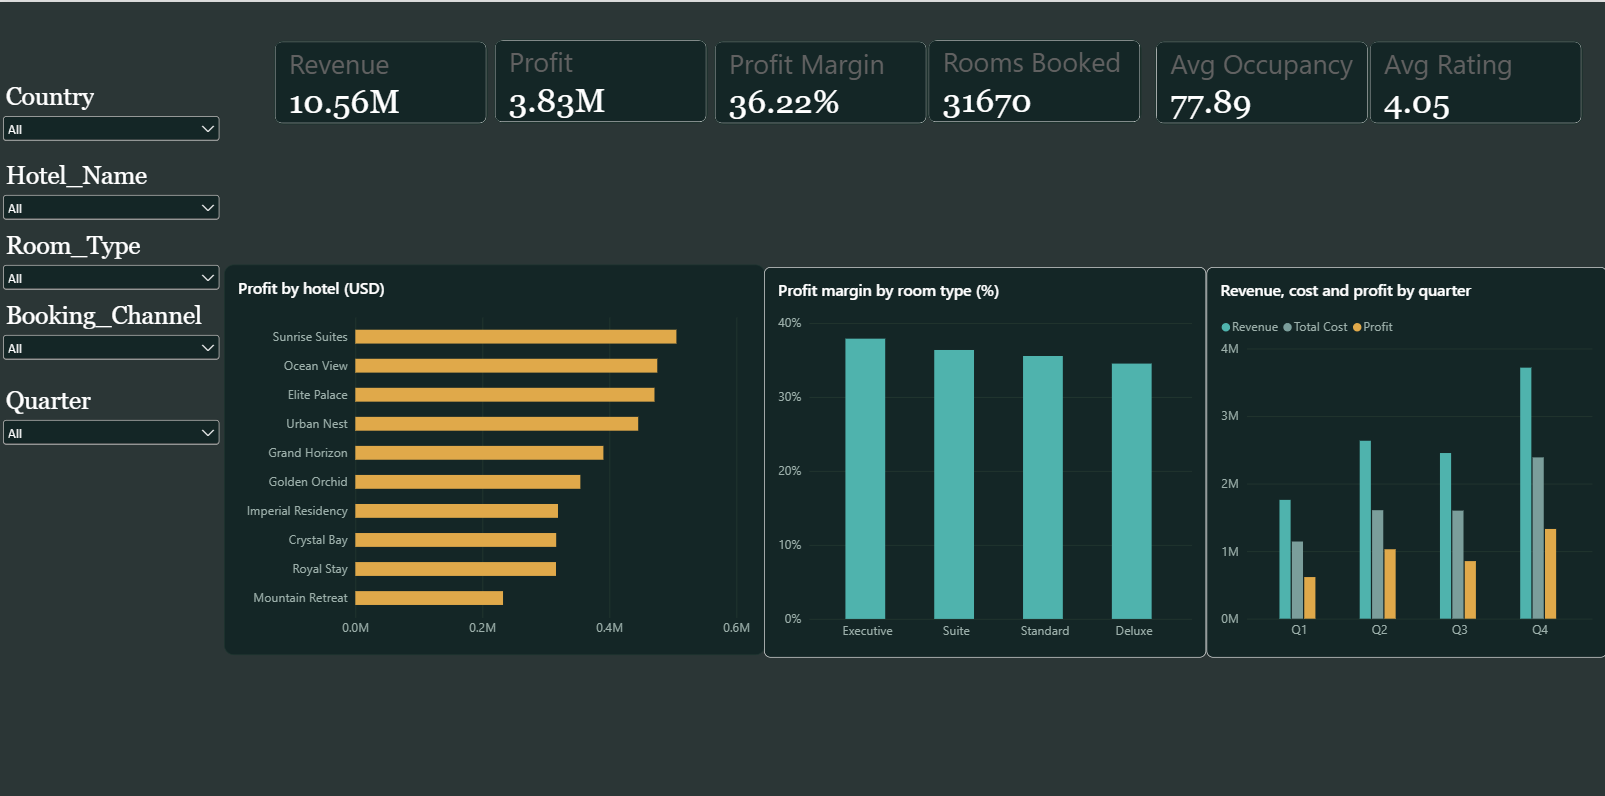

What the dashboard file says about the page in this screenshot:
{"tool":"powerbi","page":{"name":"Profit analysis.","canvas":[1920,1080],"ordinal":1},"visuals":[{"type":"slicer","fields":{"Values":["Hotels.Country"]},"box":[0,95.9,267.8,79.6],"z":0},{"type":"slicer","fields":{"Values":["Hotels.Hotel_Name"]},"box":[0,190,267.8,83.2],"z":1000},{"type":"slicer","fields":{"Values":["Hotels.Room_Type"]},"box":[0,273.3,267.8,81.4],"z":2000},{"type":"slicer","fields":{"Values":["Hotels.Booking_Channel"]},"box":[0,356.5,267.8,81.4],"z":3000},{"type":"slicer","fields":{"Values":["Hotels.Quarter"]},"box":[0,457.8,267.8,81.4],"z":4000},{"type":"clusteredBarChart","title":"Profit by hotel (USD)","fields":{"Category":["Hotels.Hotel_Name"],"Y":["Hotels.Total Profit"]},"box":[268,314,646,466],"z":5000},{"type":"clusteredColumnChart","title":"Profit margin by room type (%)","fields":{"Category":["Hotels.Room_Type"],"Y":["Hotels.Profit Margin"]},"box":[914,316,528,466],"z":6000},{"type":"clusteredColumnChart","title":"Revenue, cost and profit by quarter","fields":{"Category":["Hotels.Quarter"],"Y":["Hotels.Total Revenue","Hotels.Total cost","Hotels.Total Profit"]},"box":[1442,316,478,466],"z":7000},{"type":"cardVisual","fields":{"Data":["Hotels.Total Revenue"]},"box":[328,46,255,100],"z":8000},{"type":"cardVisual","fields":{"Data":["Hotels.Total Profit"]},"box":[591.8,45.2,255,100],"z":9000},{"type":"cardVisual","fields":{"Data":["Hotels.Profit Margin"]},"box":[854,46,255,100],"z":10000},{"type":"cardVisual","fields":{"Data":["Hotels.Rooms Booked"]},"box":[1109.3,45.2,255,100],"z":11000},{"type":"cardVisual","fields":{"Data":["Hotels.Avg Occupancy"]},"box":[1380,46,255,100],"z":12000},{"type":"cardVisual","fields":{"Data":["Hotels.Avg Rating"]},"box":[1636,46,255,100],"z":13000}]}

Visuals, with their boxes on the page's 1920x1080 design canvas (x1, y1, x2, y2). These are canvas units, not pixel positions in the 1605x796 screenshot, which may show the page scaled, cropped or inside an application window:
slicer - Hotels.Country: x1=0 y1=96 x2=268 y2=176
slicer - Hotels.Hotel_Name: x1=0 y1=190 x2=268 y2=273
slicer - Hotels.Room_Type: x1=0 y1=273 x2=268 y2=355
slicer - Hotels.Booking_Channel: x1=0 y1=356 x2=268 y2=438
slicer - Hotels.Quarter: x1=0 y1=458 x2=268 y2=539
"Profit by hotel (USD)" clusteredBarChart: x1=268 y1=314 x2=914 y2=780
"Profit margin by room type (%)" clusteredColumnChart: x1=914 y1=316 x2=1442 y2=782
"Revenue, cost and profit by quarter" clusteredColumnChart: x1=1442 y1=316 x2=1920 y2=782
cardVisual - Hotels.Total Revenue: x1=328 y1=46 x2=583 y2=146
cardVisual - Hotels.Total Profit: x1=592 y1=45 x2=847 y2=145
cardVisual - Hotels.Profit Margin: x1=854 y1=46 x2=1109 y2=146
cardVisual - Hotels.Rooms Booked: x1=1109 y1=45 x2=1364 y2=145
cardVisual - Hotels.Avg Occupancy: x1=1380 y1=46 x2=1635 y2=146
cardVisual - Hotels.Avg Rating: x1=1636 y1=46 x2=1891 y2=146
